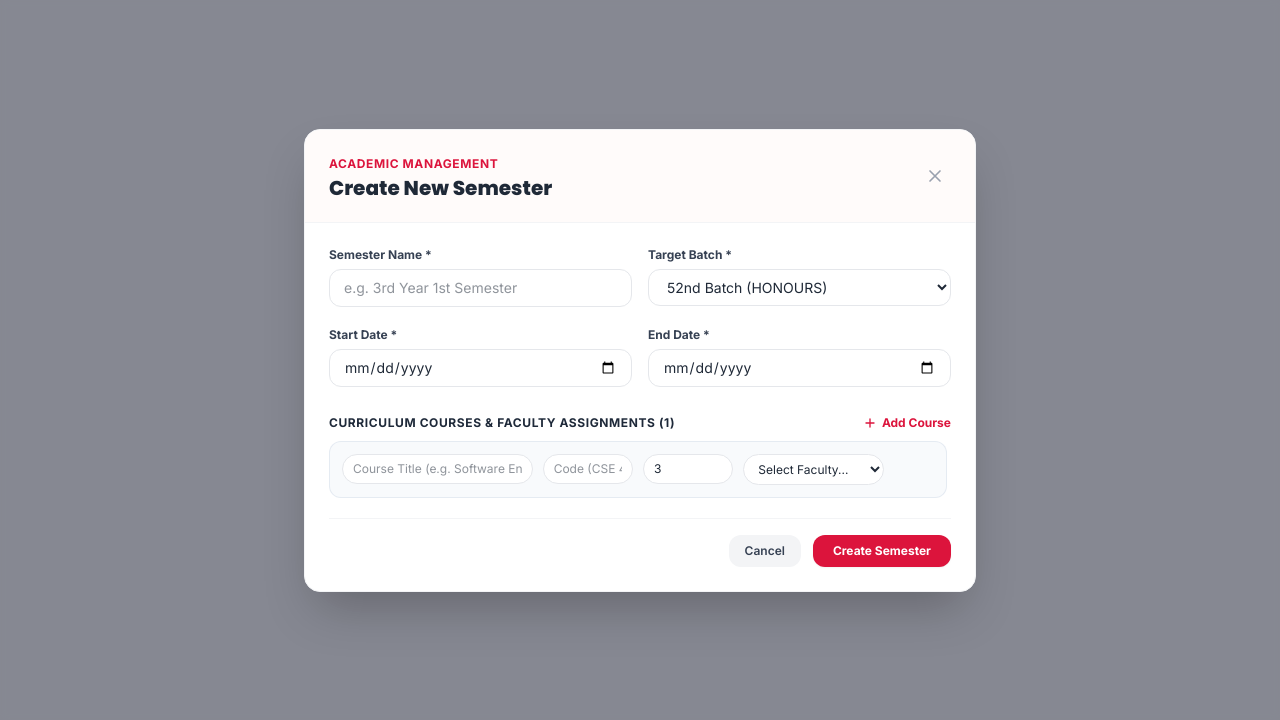
Test case: SemesterModal (React Testing Library Component Seam) › validates required fields and displays error message on empty submit
Click the button "Create Semester" at [882, 550], box [813,534,951,566]
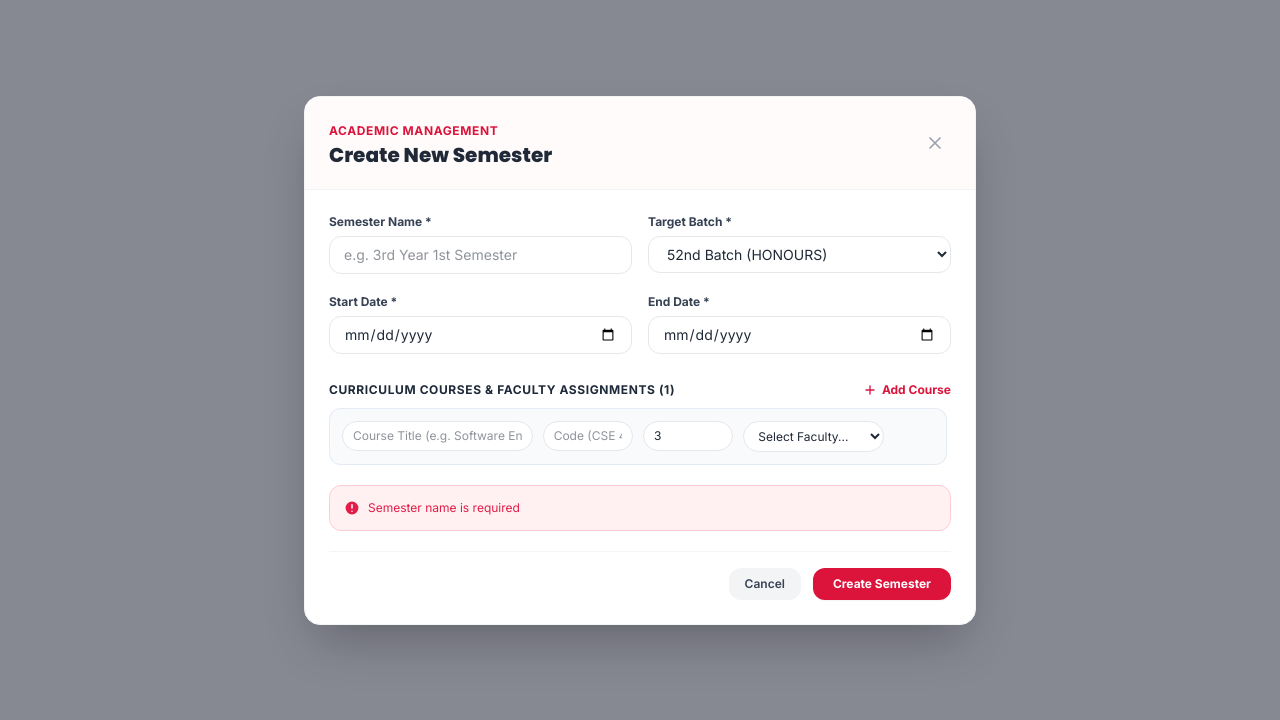
Check: the message reads "Semester name is required", box [368,500,520,514]
